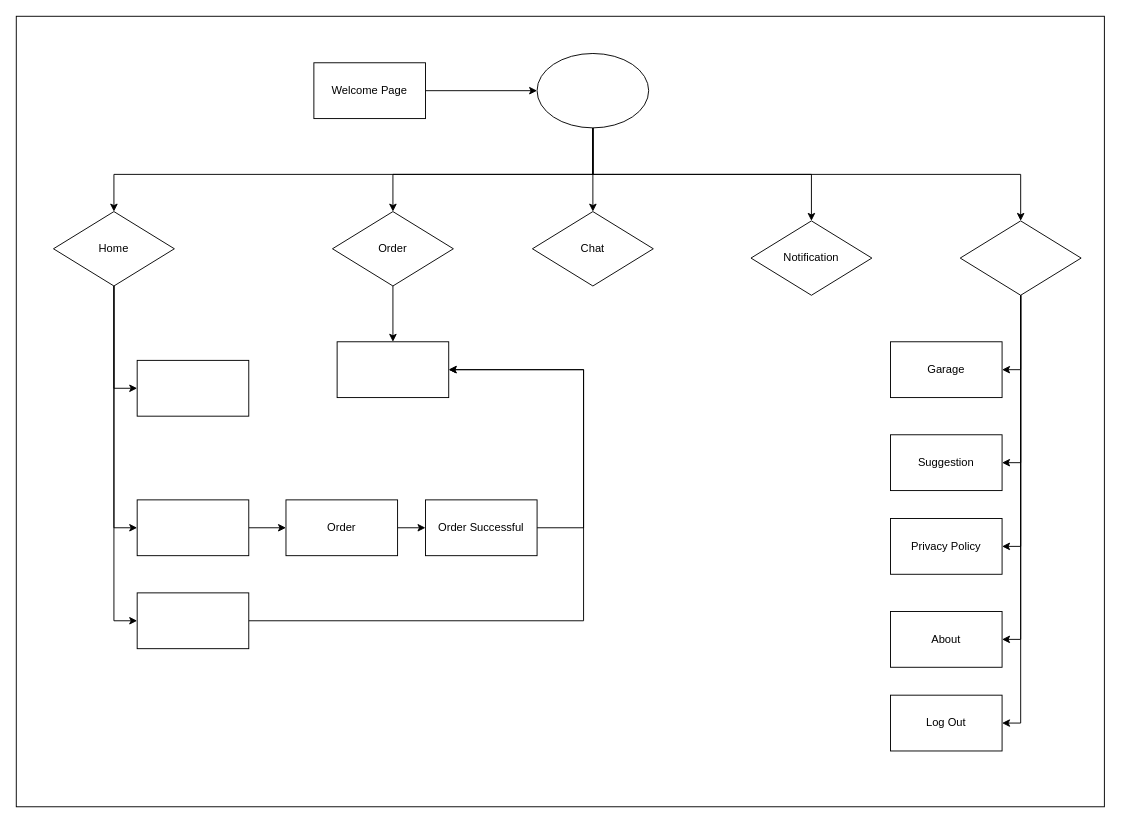
The diagram is 1121 pixels wide and 823 high, and some of its shapes have lost their labels. Here are the shapes that lost their labels. From the top down, the centre of each, then its label:
(x=592, y=90): Sign In
(x=1020, y=257): Profile
(x=192, y=387): Location
(x=392, y=369): Order History
(x=192, y=527): Services
(x=192, y=620): Last Order
